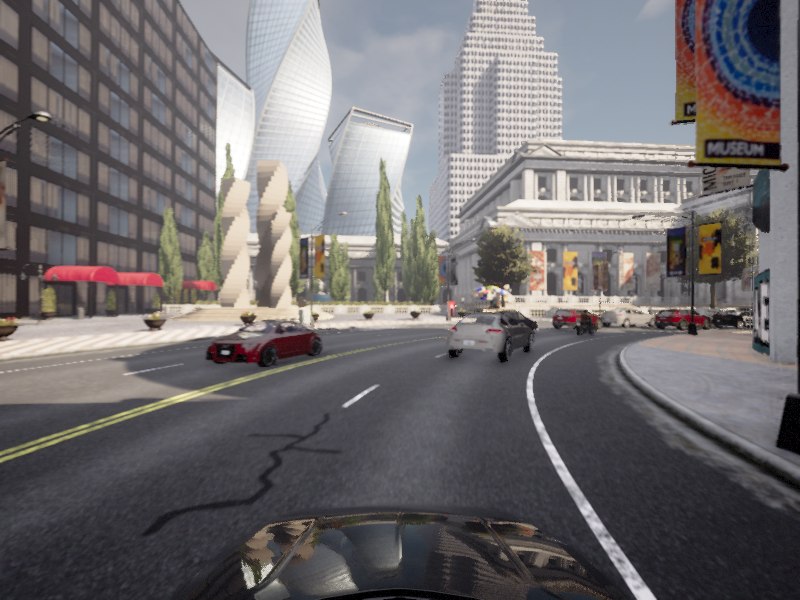vehicle: (196, 317, 327, 372), (439, 310, 536, 365), (474, 310, 541, 337), (706, 308, 782, 329), (648, 308, 716, 330), (546, 307, 606, 331), (596, 307, 659, 328), (650, 310, 719, 327), (571, 309, 600, 336)
